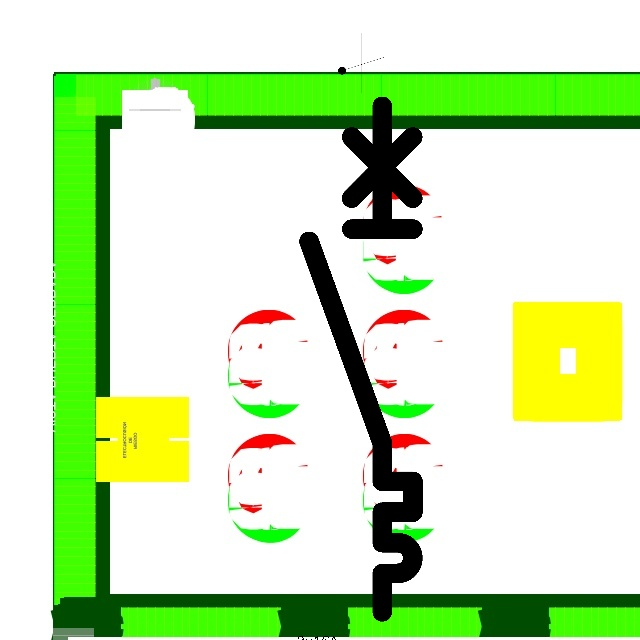interruptor_termomagnetico: (296, 93, 426, 625)
